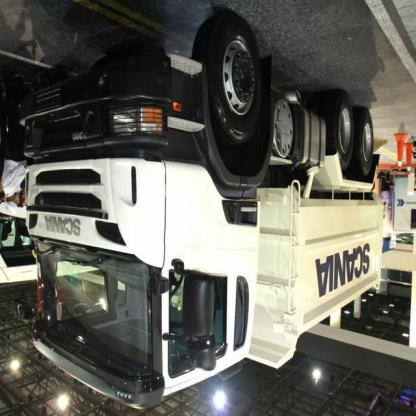truck: (21, 9, 386, 414)
